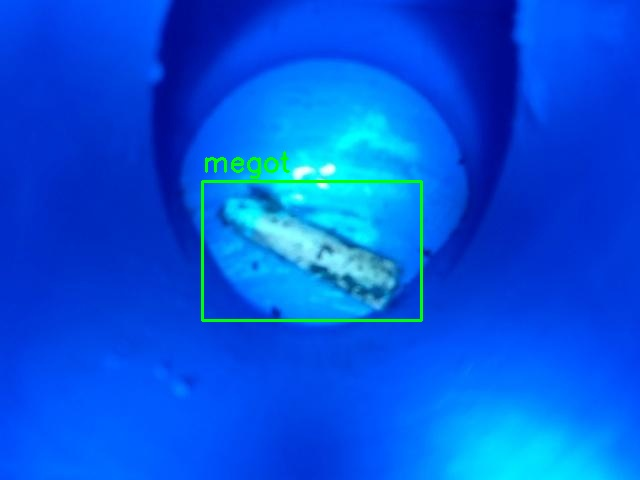megot: (202, 181, 421, 320)
